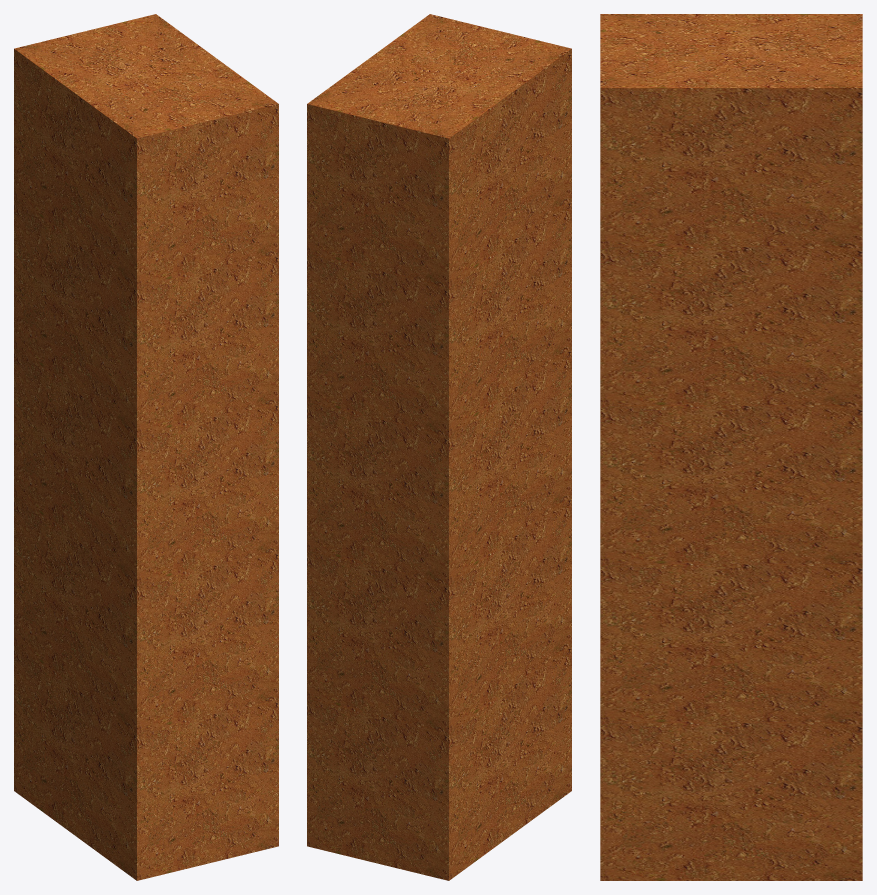
File: Wall-2.fbx
The picture shows the model from 3 angles, left to right: view 1: azimuth 30°, elevation 25°; view 2: azimuth 150°, elevation 25°; view 3: azimuth 270°, elevation 25°; orthographic projection. The views are drawn at different scales.
Parts seen in each view (by area): view 1: Unit_Block20, Unit_Block19, Unit_Block17, Unit_Block18, Unit_Block16; view 2: Unit_Block20, Unit_Block19, Unit_Block17, Unit_Block18, Unit_Block16; view 3: Unit_Block20, Unit_Block17, Unit_Block19, Unit_Block16, Unit_Block18.
Boxes of the visible parts, x1,y1,x2,y2 form: Unit_Block20: [14, 14, 278, 286]; Unit_Block19: [14, 197, 278, 435]; Unit_Block17: [14, 494, 278, 732]; Unit_Block18: [14, 346, 278, 583]; Unit_Block16: [14, 643, 278, 880]; Unit_Block20: [307, 14, 571, 286]; Unit_Block19: [307, 197, 571, 435]; Unit_Block17: [307, 494, 571, 732]; Unit_Block18: [307, 346, 571, 583]; Unit_Block16: [307, 643, 571, 880]; Unit_Block20: [600, 14, 862, 246]; Unit_Block17: [600, 563, 862, 722]; Unit_Block19: [600, 246, 862, 405]; Unit_Block16: [600, 722, 862, 880]; Unit_Block18: [600, 405, 862, 563].
Bounding box in the file's own units: 2 × 10 × 3.
